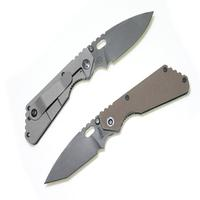knife: (13, 10, 192, 187)
